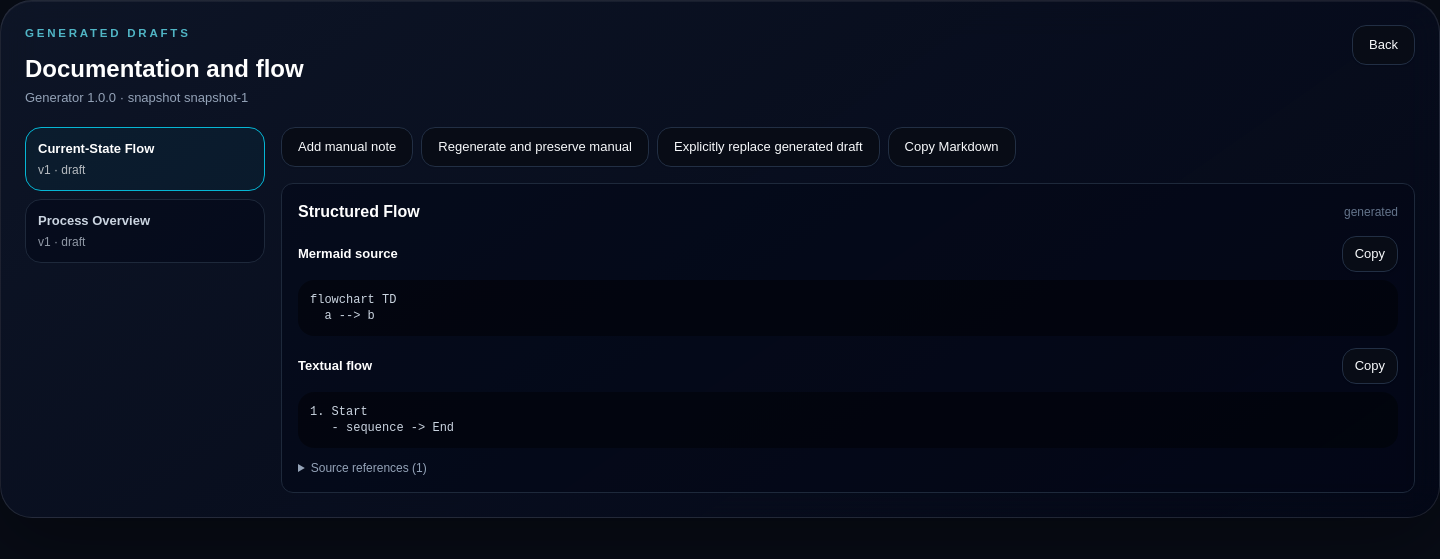
Scenario: DocumentationWorkspace › renders Mermaid, textual fallback and source references
Expected: the heading "Documentation and flow" is shown, [25,53,304,85]
Expected: the text "flowchart TD a --> b" is shown, [298,280,1398,336]
Click the heading "Source references (1)" at (369, 468), box [311,461,427,475]
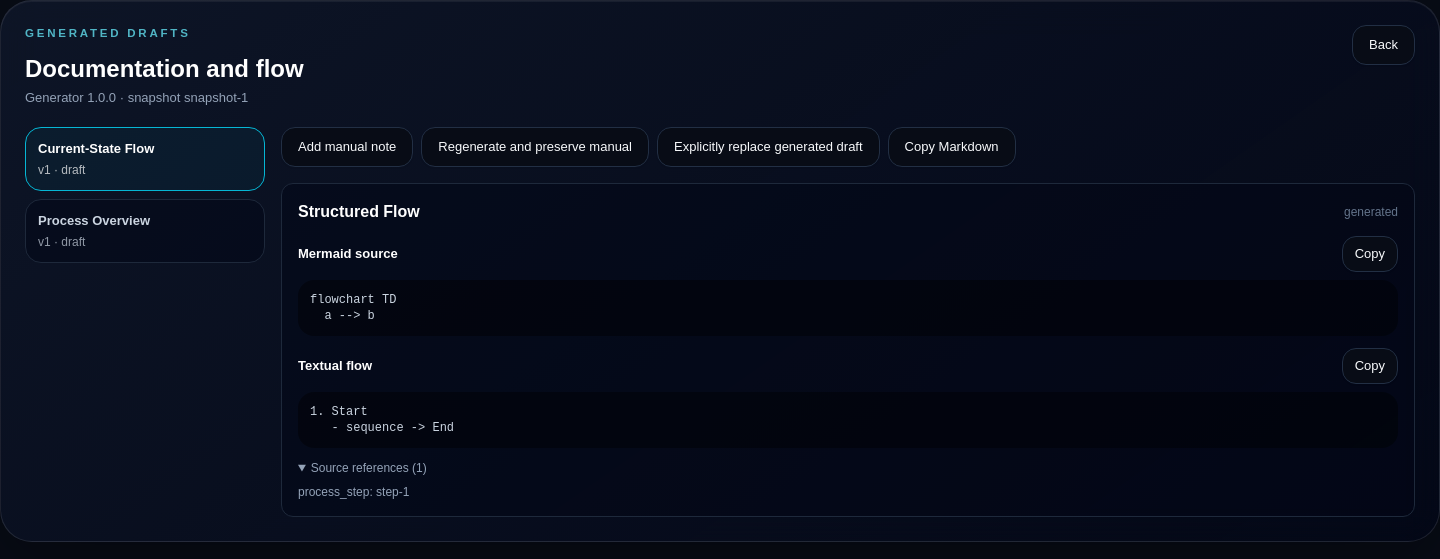
Now the list item "process_step: step-1" is shown, box [298,485,409,499]
